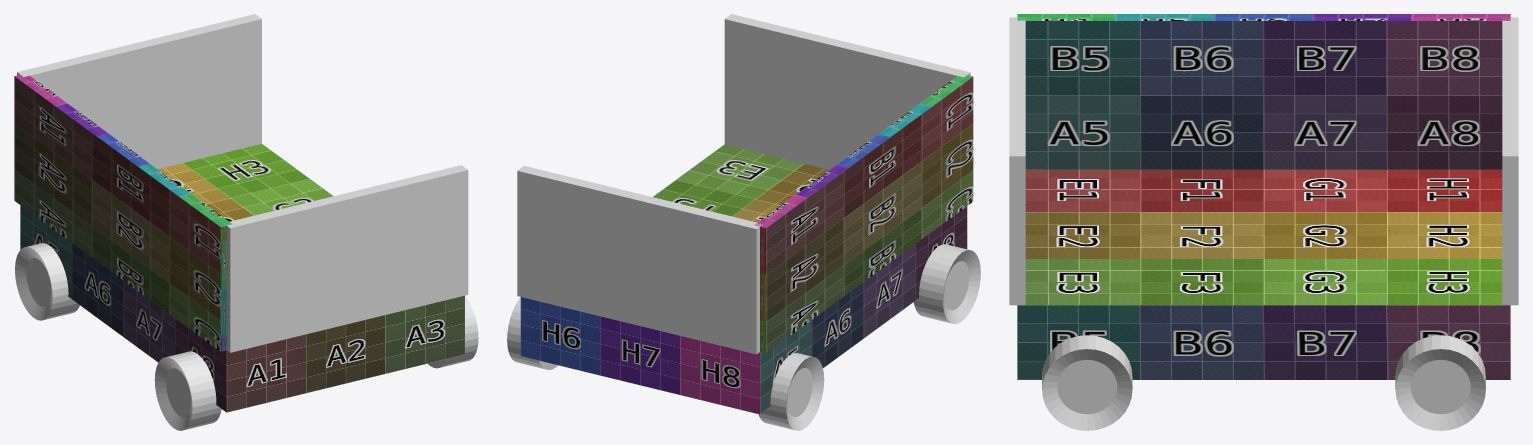
Rendered from Tuture.glb.
3 renders of one model, left to right at view 1: azimuth 30°, elevation 25°; view 2: azimuth 150°, elevation 25°; view 3: azimuth 270°, elevation 25°, orthographic. The views are drawn at different scales.
Visible parts, largest first — view 1: MurDerriere, Sol, MurFond, MurDevant, RoueArriereGauche, RoueDevantGauche, RoueArriereDroite; view 2: MurDevant, Sol, MurFond, MurDerriere, RoueArriereGauche, RoueDevantGauche, RoueDevantDroite; view 3: Sol, MurFond, RoueDevantDroite, RoueArriereDroite, MurDerriere, MurDevant.
Part boxes in pixels (bbox=[...]): MurDerriere: bbox=[226, 165, 468, 352]; Sol: bbox=[20, 144, 464, 412]; MurFond: bbox=[14, 74, 232, 351]; MurDevant: bbox=[17, 14, 261, 168]; RoueArriereGauche: bbox=[154, 351, 221, 430]; RoueDevantGauche: bbox=[15, 243, 79, 320]; RoueArriereDroite: bbox=[428, 296, 478, 368]; MurDevant: bbox=[517, 166, 762, 354]; Sol: bbox=[520, 144, 967, 414]; MurFond: bbox=[754, 74, 973, 353]; MurDerriere: bbox=[724, 14, 970, 169]; RoueArriereGauche: bbox=[913, 244, 980, 324]; RoueDevantGauche: bbox=[758, 353, 824, 430]; RoueDevantDroite: bbox=[507, 297, 557, 369]; Sol: bbox=[1017, 170, 1510, 379]; MurFond: bbox=[1017, 14, 1510, 169]; RoueDevantDroite: bbox=[1395, 335, 1485, 430]; RoueArriereDroite: bbox=[1042, 335, 1132, 430]; MurDerriere: bbox=[1009, 17, 1025, 305]; MurDevant: bbox=[1502, 17, 1518, 305].
Bounding box in the file's own units: 11.52 × 8.4 × 14.88.
2 materials, 2 textured.
